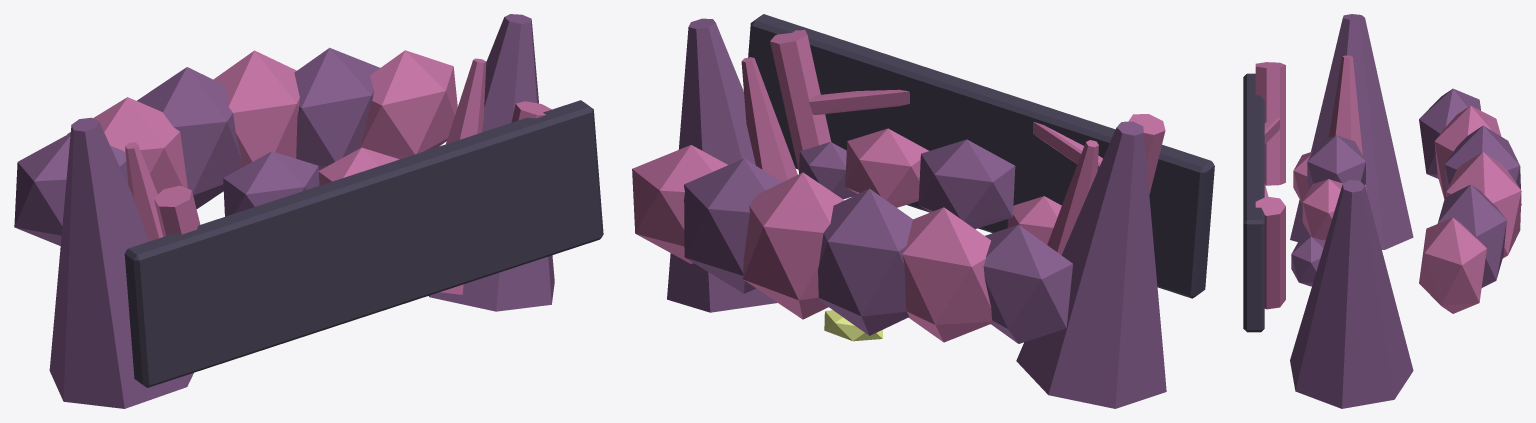
File: SporeArch.fbx
3 renders of one model, left to right at view 1: azimuth 30°, elevation 25°; view 2: azimuth 150°, elevation 25°; view 3: azimuth 270°, elevation 25°, orthographic. The views are drawn at different scales.
Visible parts, largest first — view 1: SporeBed, SporePillar, SporePillar.001, SporeCanopyLobe.005, SporeCanopyLobe.004, SporeCanopyLobe.002, SporeCanopyLobe.003, SporeCanopyLobe, SporeCanopyLobe.001, SporePod.001, SporeFleshRidge.001, SporeFleshRidge (+3 smaller); view 2: SporeBed, SporePillar, SporePillar.001, SporeCanopyLobe.002, SporeCanopyLobe.003, SporeCanopyLobe.001, SporeCanopyLobe, SporeCanopyLobe.004, SporePod.001, SporeCanopyLobe.005, SporePod.002, SporeRoot.001 (+8 smaller); view 3: SporePillar.001, SporePillar, SporeBed, SporeCanopyLobe.005, SporeCanopyLobe.004, SporeCanopyLobe.003, SporeRoot, SporeRoot.001, SporePod.001, SporeCanopyLobe.002, SporeCanopyLobe, SporeFleshRidge (+5 smaller).
Boxes of the visible parts, left/top/right/bottom form: SporeBed: left=124, top=100, right=603, bottom=387; SporePillar: left=49, top=117, right=193, bottom=408; SporePillar.001: left=429, top=14, right=554, bottom=311; SporeCanopyLobe.005: left=360, top=50, right=457, bottom=159; SporeCanopyLobe.004: left=294, top=47, right=379, bottom=170; SporeCanopyLobe.002: left=137, top=67, right=241, bottom=208; SporeCanopyLobe.003: left=213, top=50, right=299, bottom=167; SporeCanopyLobe: left=14, top=133, right=128, bottom=245; SporeCanopyLobe.001: left=67, top=97, right=187, bottom=193; SporePod.001: left=223, top=151, right=319, bottom=216; SporeFleshRidge.001: left=440, top=58, right=486, bottom=294; SporeFleshRidge: left=125, top=142, right=163, bottom=241; SporeBed: left=748, top=14, right=1214, bottom=298; SporePillar: left=1016, top=121, right=1166, bottom=408; SporePillar.001: left=667, top=18, right=777, bottom=312; SporeCanopyLobe.002: left=818, top=188, right=912, bottom=335; SporeCanopyLobe.003: left=743, top=172, right=844, bottom=319; SporeCanopyLobe.001: left=902, top=207, right=993, bottom=342; SporeCanopyLobe: left=983, top=224, right=1072, bottom=343; SporeCanopyLobe.004: left=684, top=158, right=782, bottom=293; SporePod.001: left=918, top=139, right=1015, bottom=229; SporeCanopyLobe.005: left=632, top=145, right=727, bottom=264; SporePod.002: left=845, top=128, right=928, bottom=207; SporeRoot.001: left=770, top=30, right=831, bottom=171; SporePillar.001: left=1290, top=180, right=1413, bottom=408; SporePillar: left=1290, top=14, right=1413, bottom=249; SporeBed: left=1243, top=73, right=1264, bottom=332; SporeCanopyLobe.005: left=1419, top=217, right=1486, bottom=313; SporeCanopyLobe.004: left=1437, top=184, right=1506, bottom=287; SporeCanopyLobe.003: left=1446, top=152, right=1521, bottom=258; SporeRoot: left=1255, top=62, right=1285, bottom=185; SporeRoot.001: left=1255, top=196, right=1285, bottom=309; SporePod.001: left=1307, top=135, right=1365, bottom=188; SporeCanopyLobe.002: left=1444, top=125, right=1521, bottom=205; SporeCanopyLobe: left=1419, top=88, right=1480, bottom=178; SporeFleshRidge: left=1328, top=55, right=1366, bottom=189.
Bounding box in the file's own units: 511 × 265 × 313.
